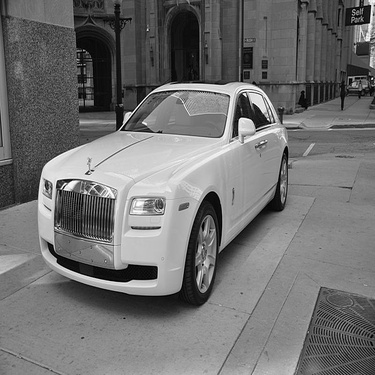car: (15, 79, 292, 309), (347, 79, 372, 96)
